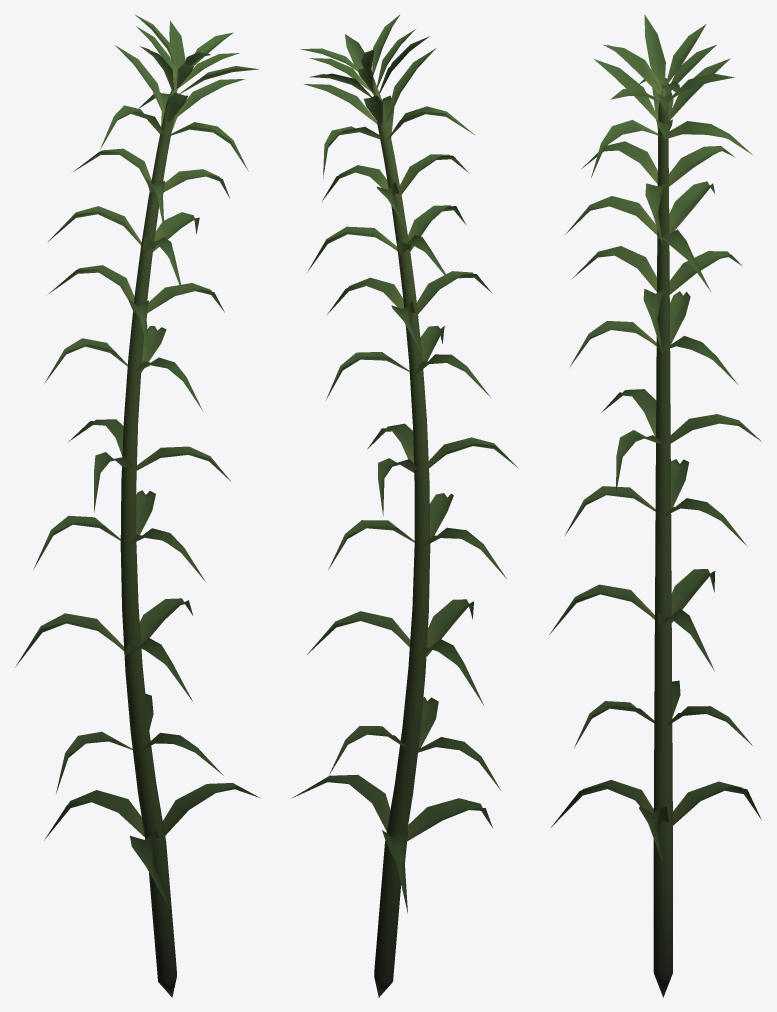
The model's file is underwater-aquatic-plants-waterweed_v3.glb.
The picture shows the model from 3 angles, left to right: view 1: azimuth 30°, elevation 25°; view 2: azimuth 150°, elevation 25°; view 3: azimuth 270°, elevation 25°; orthographic projection.
Parts seen in each view (by area): view 1: Waterweed_v3; view 2: Waterweed_v3; view 3: Waterweed_v3.
Boxes of the visible parts, x1,y1,x2,y2 form: Waterweed_v3: [15, 14, 260, 997]; Waterweed_v3: [292, 15, 518, 997]; Waterweed_v3: [549, 14, 761, 997].
Bounding box in the file's own units: 0.1445 × 0.6 × 0.1208.
